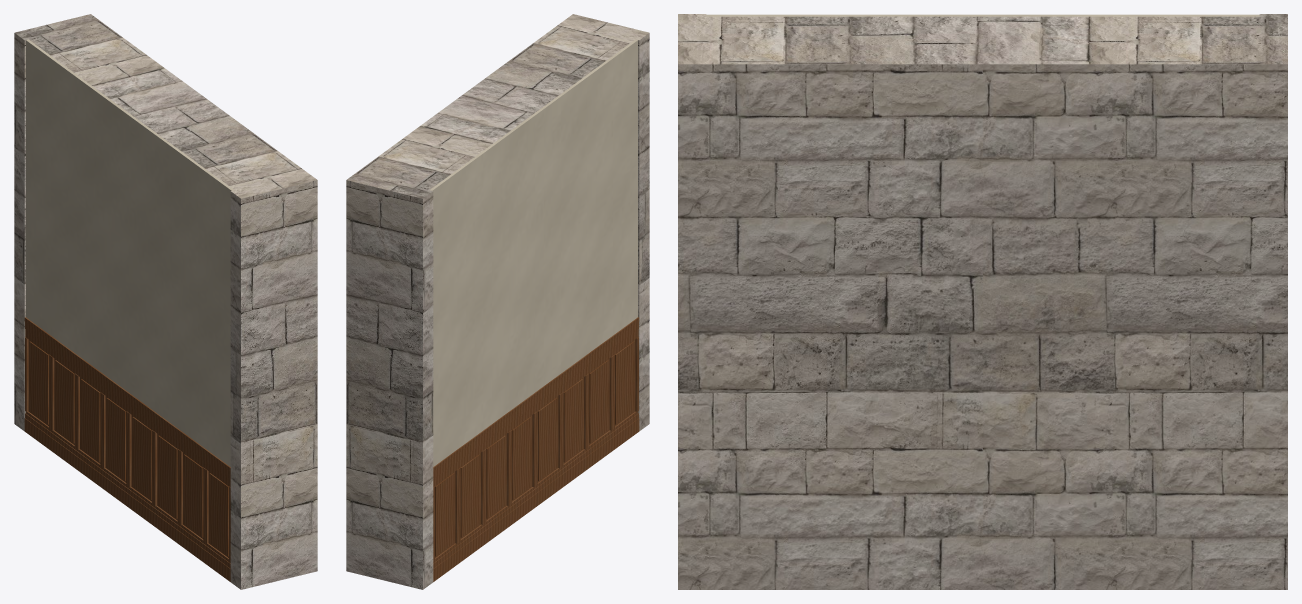
Rendered from collegiate_bay_wall.glb.
3 views of the same model, side by side, from view 1: azimuth 30°, elevation 25°; view 2: azimuth 150°, elevation 25°; view 3: azimuth 270°, elevation 25° (orthographic). The views are drawn at different scales.
Parts seen in each view (by area): view 1: Lime-plastered upper wall, Masonry backing and jamb returns, Lime-plastered upper wall.001, Masonry backing and jamb returns.001, Recessed oak panel fields, Oak cap, stiles, and skirting, Oak cap, stiles, and skirting.001, Recessed oak panel fields.001; view 2: Lime-plastered upper wall, Masonry backing and jamb returns, Recessed oak panel fields, Oak cap, stiles, and skirting, Masonry backing and jamb returns.001, Lime-plastered upper wall.001, Oak cap, stiles, and skirting.001, Recessed oak panel fields.001; view 3: Masonry backing and jamb returns, Masonry backing and jamb returns.001, Lime-plastered upper wall.
Part boxes in pixels (x1,y1,x2,y2): Lime-plastered upper wall: [26, 39, 233, 466]; Masonry backing and jamb returns: [14, 14, 317, 589]; Lime-plastered upper wall.001: [26, 39, 232, 465]; Masonry backing and jamb returns.001: [19, 14, 316, 196]; Recessed oak panel fields: [28, 340, 229, 557]; Oak cap, stiles, and skirting: [24, 317, 230, 581]; Oak cap, stiles, and skirting.001: [25, 319, 230, 542]; Recessed oak panel fields.001: [28, 342, 193, 531]; Lime-plastered upper wall: [430, 39, 637, 466]; Masonry backing and jamb returns: [346, 14, 649, 589]; Recessed oak panel fields: [434, 340, 635, 557]; Oak cap, stiles, and skirting: [433, 317, 639, 581]; Masonry backing and jamb returns.001: [347, 14, 644, 197]; Lime-plastered upper wall.001: [431, 40, 637, 464]; Oak cap, stiles, and skirting.001: [433, 317, 638, 485]; Recessed oak panel fields.001: [435, 340, 635, 557]; Masonry backing and jamb returns: [678, 14, 1287, 589]; Masonry backing and jamb returns.001: [678, 16, 1287, 589]; Lime-plastered upper wall: [706, 14, 1259, 16].
Size of the model in its own units: 0.8 by 3.9 by 4.1.
3 materials, 3 textured.
